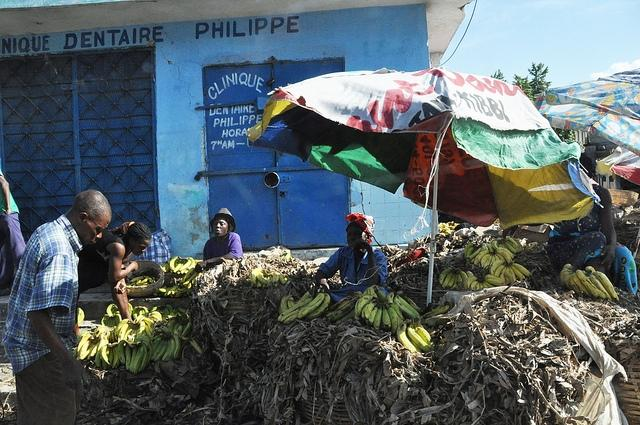banana: (299, 293, 331, 321), (327, 296, 361, 322), (278, 298, 312, 322), (296, 293, 324, 320), (576, 270, 600, 299), (407, 323, 431, 352), (280, 302, 310, 323), (590, 274, 612, 302), (354, 294, 378, 318), (398, 296, 420, 316), (137, 342, 150, 372), (152, 339, 168, 363), (388, 303, 406, 324), (417, 327, 434, 349), (139, 338, 153, 364), (386, 307, 399, 334), (362, 299, 378, 320), (115, 319, 131, 340), (134, 346, 144, 375), (100, 344, 112, 368), (506, 236, 522, 254), (118, 339, 128, 365), (406, 298, 424, 312), (78, 336, 90, 356), (382, 306, 392, 330), (79, 340, 92, 358), (280, 294, 293, 312), (183, 270, 198, 285), (466, 248, 482, 262), (142, 318, 156, 334), (442, 272, 456, 288), (490, 260, 504, 276), (486, 274, 508, 284), (510, 266, 525, 280), (174, 334, 182, 360), (125, 342, 132, 371), (570, 274, 580, 294), (153, 337, 164, 354), (113, 346, 121, 369), (458, 272, 468, 290), (446, 272, 456, 288), (90, 342, 100, 358), (174, 320, 184, 336), (486, 278, 506, 286), (504, 271, 516, 284), (130, 347, 136, 372), (256, 274, 266, 289), (93, 328, 107, 338), (174, 259, 184, 273), (496, 252, 507, 264), (124, 327, 134, 340), (566, 275, 574, 291), (508, 264, 516, 280), (148, 311, 162, 320), (170, 256, 178, 271), (456, 274, 463, 291), (144, 324, 152, 338), (78, 308, 84, 326), (287, 297, 296, 308), (262, 274, 268, 290), (108, 348, 114, 364), (598, 288, 606, 300), (470, 281, 479, 291), (180, 261, 186, 274), (130, 320, 141, 327), (486, 243, 494, 252), (171, 287, 180, 295), (271, 274, 279, 283), (491, 240, 498, 250), (142, 307, 149, 316), (586, 266, 596, 272), (494, 254, 500, 261), (470, 257, 476, 264), (141, 278, 148, 284), (130, 327, 135, 335), (114, 316, 118, 326), (109, 318, 113, 327), (443, 230, 451, 234), (154, 327, 160, 332), (486, 247, 490, 254), (138, 310, 142, 316), (132, 318, 136, 323), (142, 282, 148, 285), (498, 244, 502, 248), (502, 244, 506, 248), (130, 338, 132, 344), (446, 223, 449, 226)
